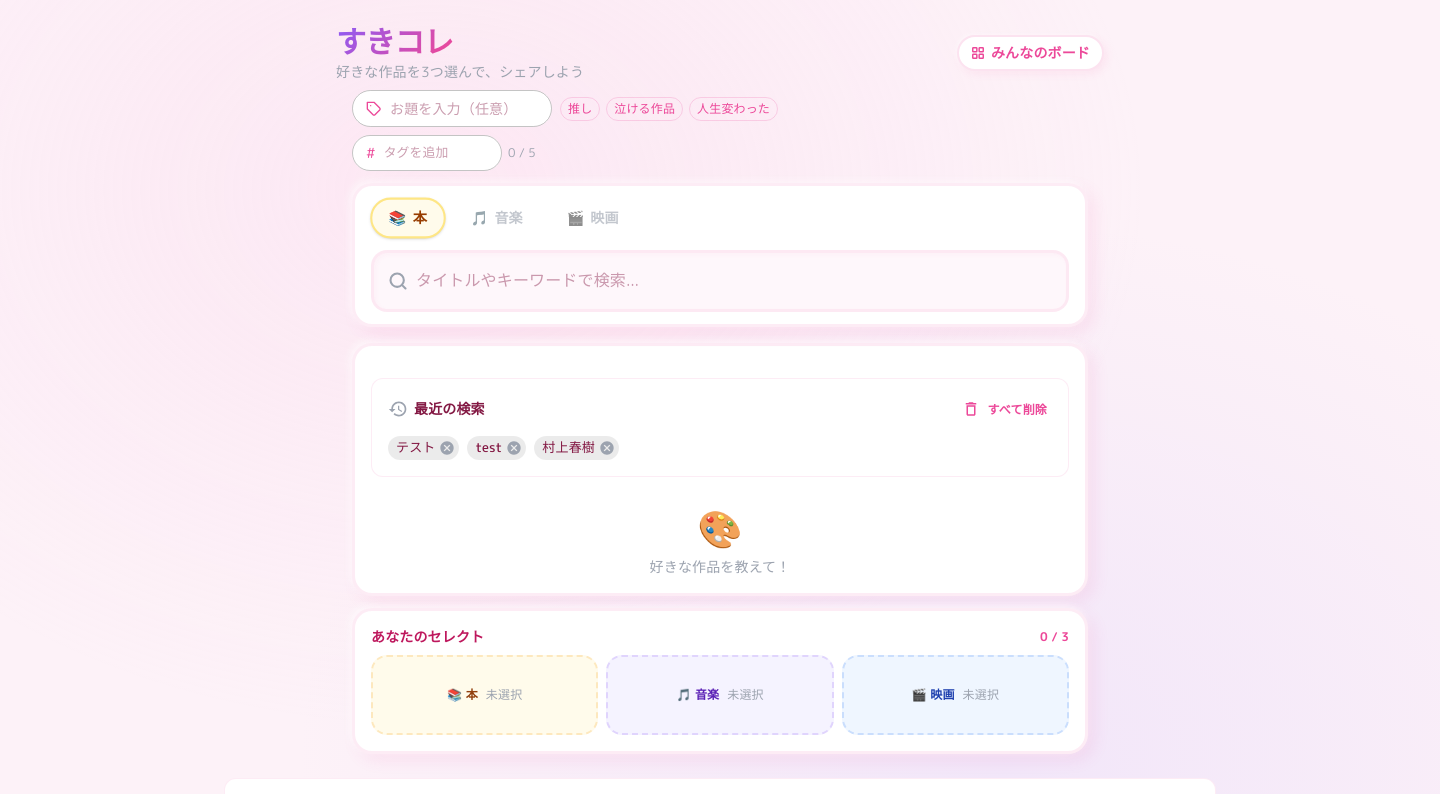
Test case: SearchPage integration (no mocked hooks) › shows error message on API failure
Type "error test" into the field with placeholder "タイトルやキーワードで検索..." at (741, 280), box [416, 252, 1066, 308]
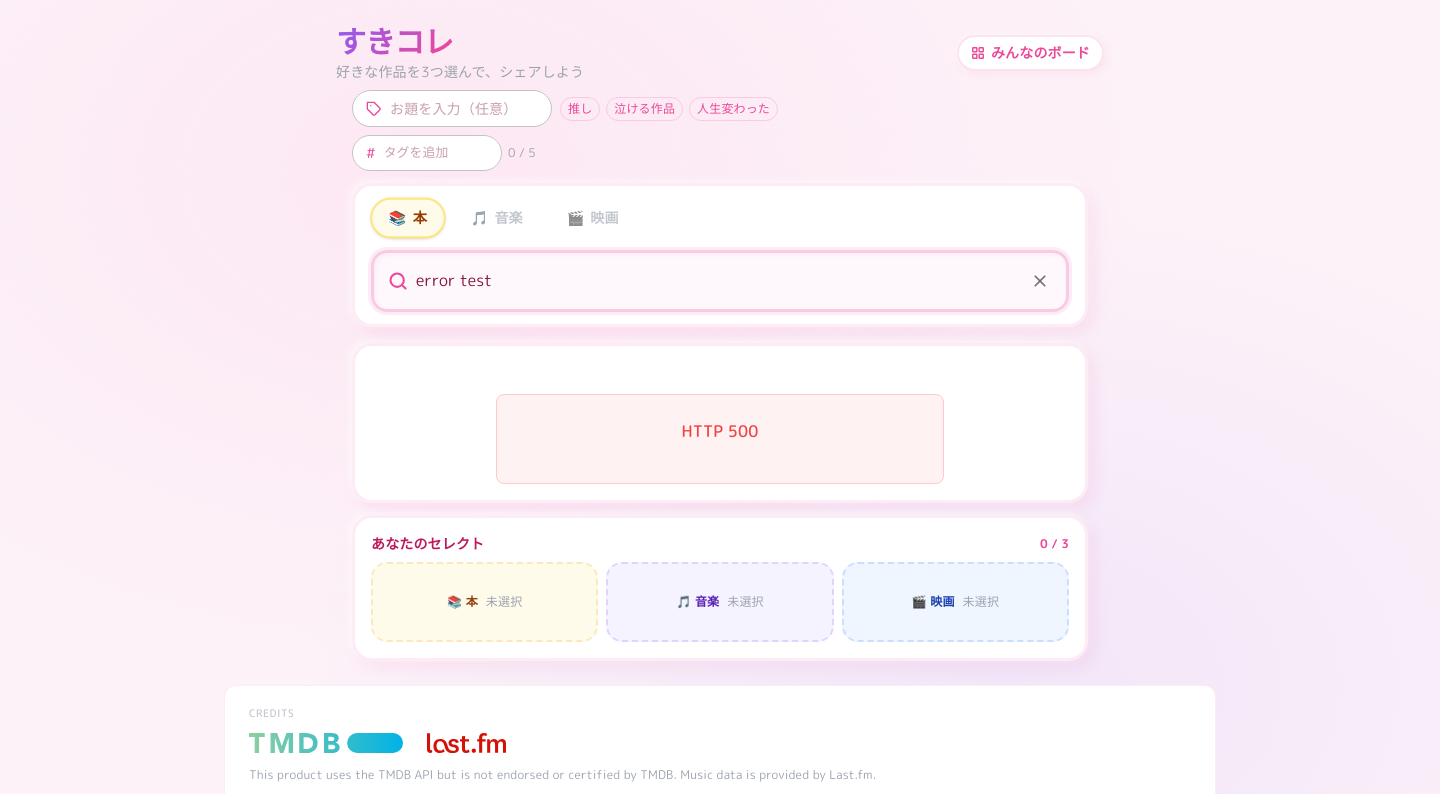
Check: the message "HTTP 500" is shown, box [496, 394, 944, 484]
